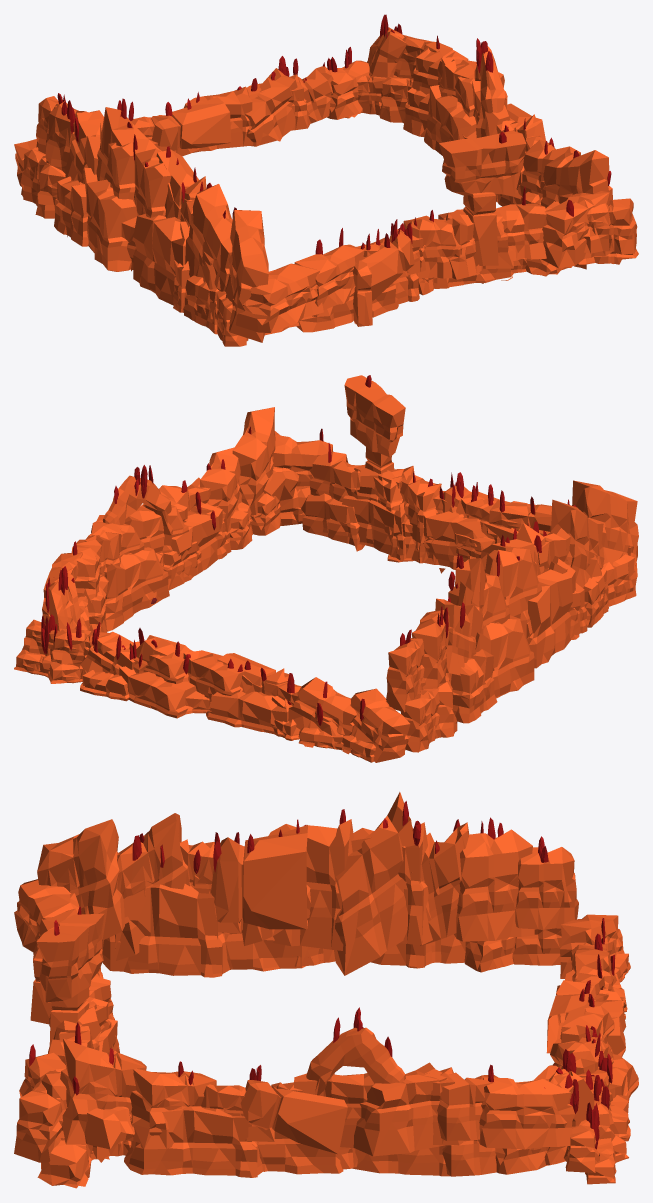
File: PropMuur 1.FBX
3 views of the same model, one above another, from view 1: azimuth 30°, elevation 25°; view 2: azimuth 150°, elevation 25°; view 3: azimuth 270°, elevation 25° (orthographic). The views are drawn at different scales.
Visible parts, largest first — view 1: MuurOnder, MuurLinks, MuurRechts, MuurBoven001; view 2: MuurLinks, MuurRechts, MuurBoven001, MuurOnder; view 3: MuurLinks, MuurRechts, MuurOnder, MuurBoven001.
Part boxes in pixels (box(x1,y1,x2,y2)): MuurOnder: box(229, 130, 638, 335); MuurLinks: box(20, 93, 268, 346); MuurRechts: box(367, 14, 612, 234); MuurBoven001: box(14, 47, 396, 186); MuurLinks: box(386, 480, 638, 752); MuurRechts: box(42, 407, 298, 632); MuurBoven001: box(14, 614, 410, 762); MuurOnder: box(273, 375, 637, 573); MuurLinks: box(37, 792, 578, 977); MuurRechts: box(60, 1007, 594, 1177); MuurOnder: box(14, 879, 119, 1188); MuurBoven001: box(544, 914, 638, 1184).
Bounding box in the file's own units: 237366 × 85473 × 253128.
